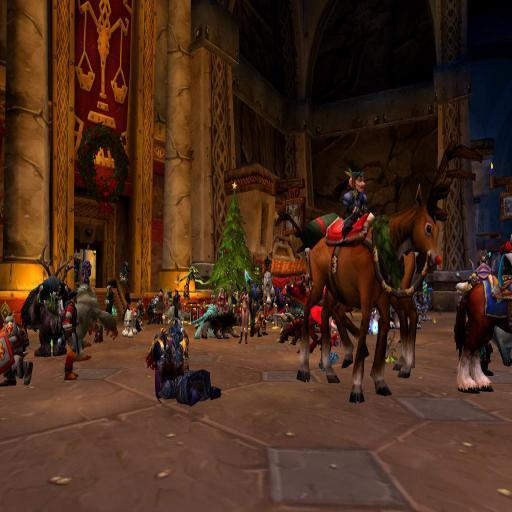horse: (294, 182, 442, 408), (451, 270, 512, 400)
